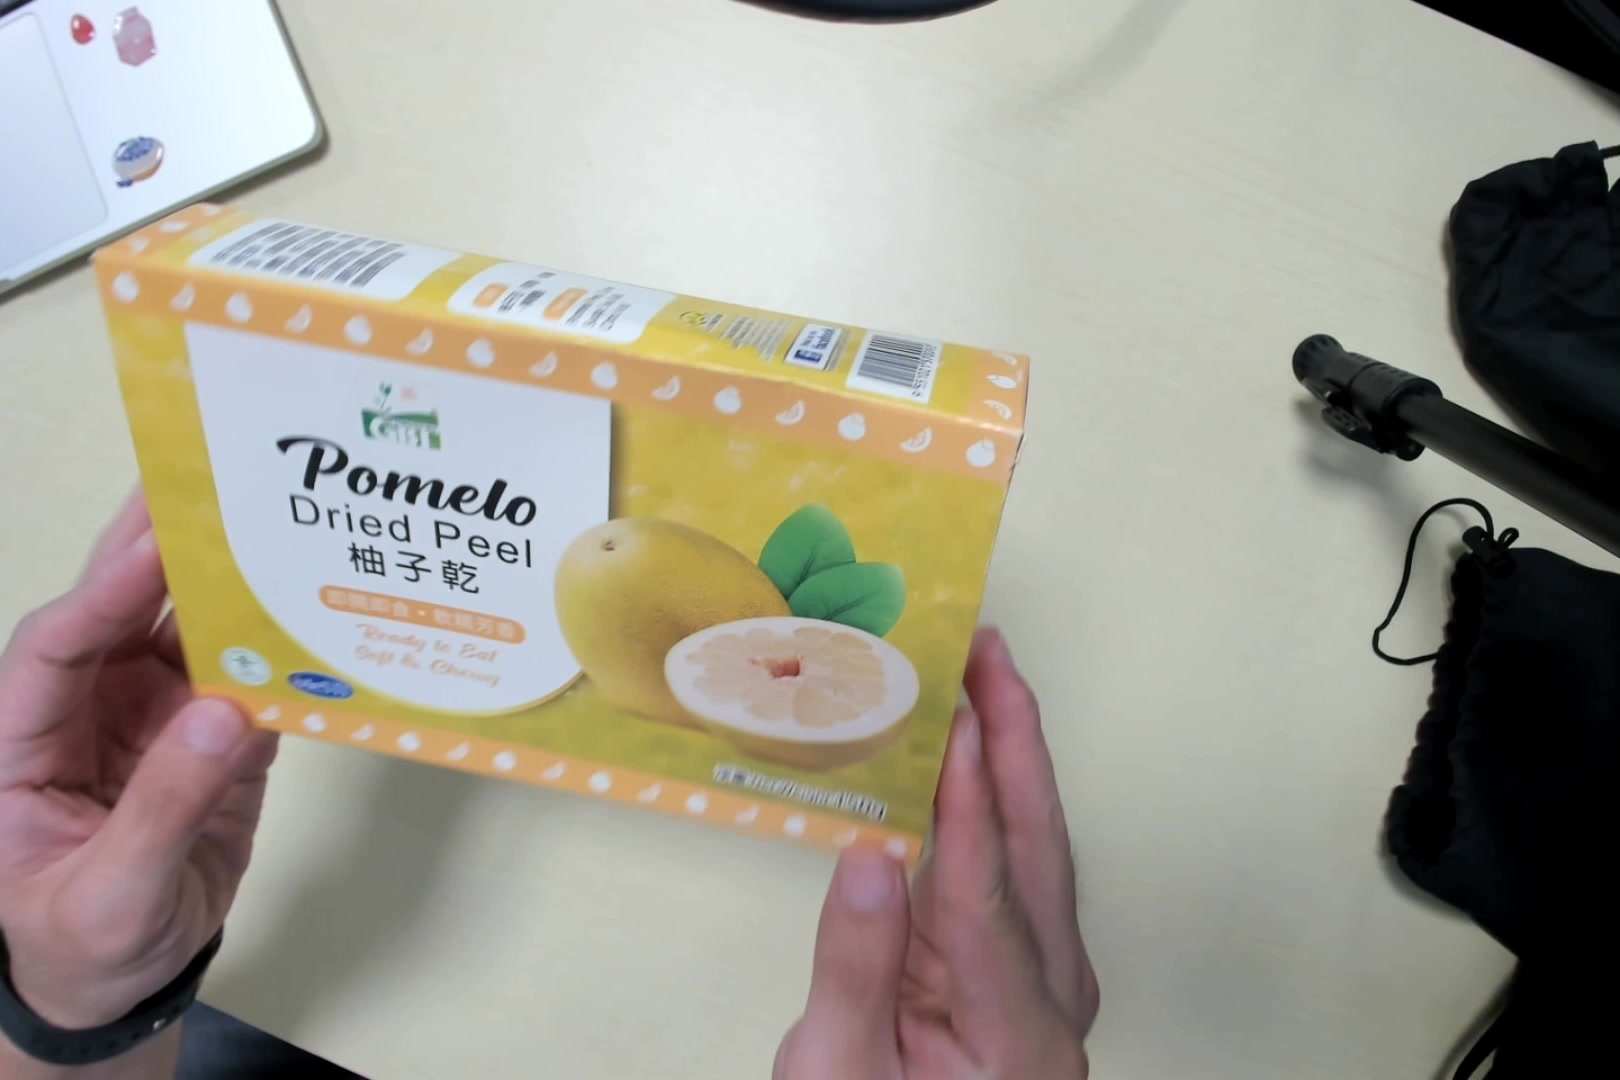DriedVegetables_100-199g_NonHalal_NonHealthy: (102, 207, 1032, 865)
